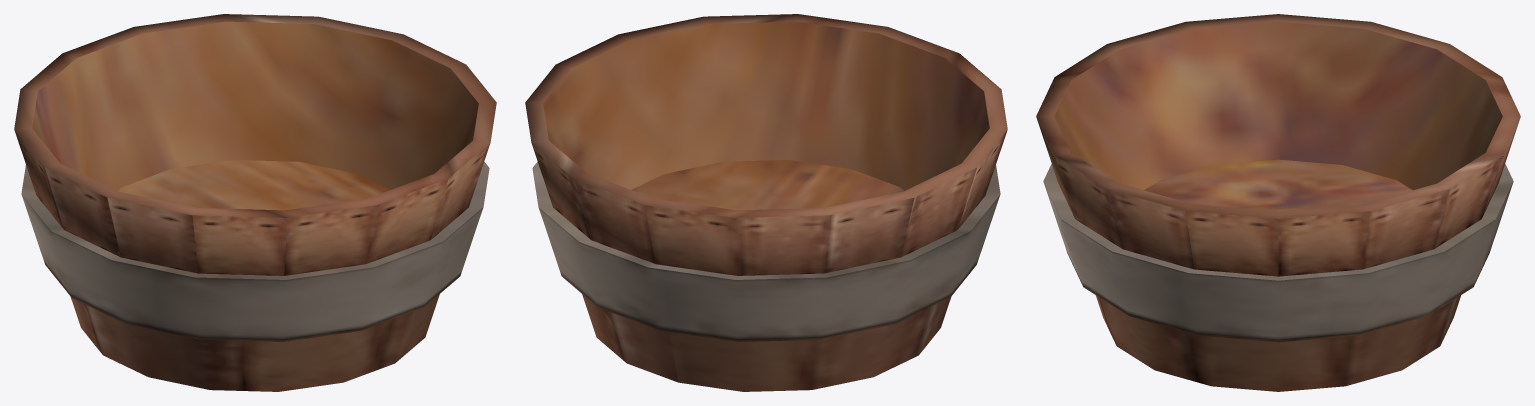
The model's file is CheeseMold_Empty.fbx.
3 views of the same model, side by side, from view 1: azimuth 30°, elevation 25°; view 2: azimuth 150°, elevation 25°; view 3: azimuth 270°, elevation 25° (orthographic).
Visible parts, largest first — view 1: Wooden_CheeseMold; view 2: Wooden_CheeseMold; view 3: Wooden_CheeseMold.
Boxes of the visible parts, bbox=[...] form: Wooden_CheeseMold: bbox=[14, 14, 496, 391]; Wooden_CheeseMold: bbox=[525, 14, 1007, 391]; Wooden_CheeseMold: bbox=[1036, 14, 1520, 391].
Bounding box in the file's own units: 55.73 × 25.55 × 55.73.
